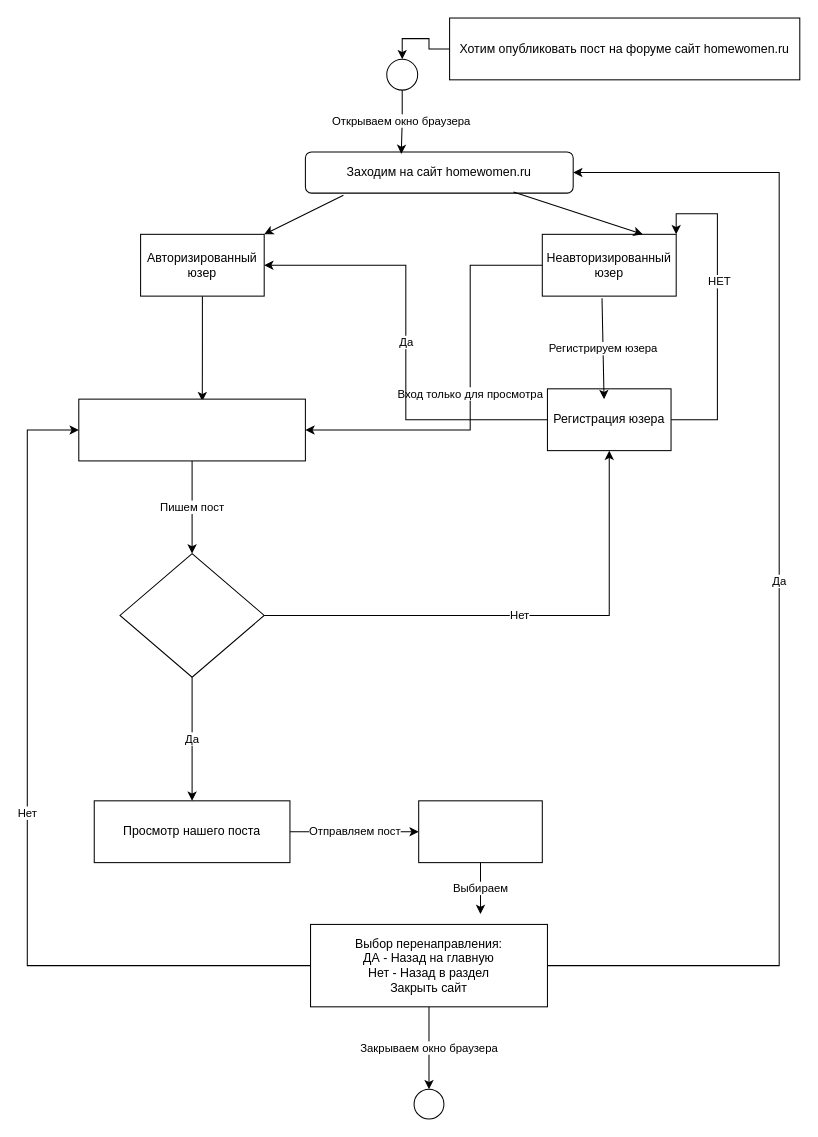
The diagram is 818 pixels wide and 1137 high, and some of its shapes have lost their labels. Each missing label, with the centre of its shape:
Заходим в нужный раздел форума: point 191,429
Отправка на ресурс нашего поста: point 480,831
Пост пишет авторизированный юзер?: point 191,615
